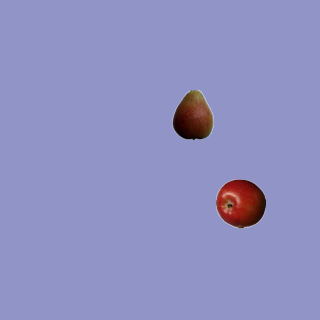Apple Braeburn: (215, 178, 265, 228)
Pear Forelle: (167, 89, 217, 139)
